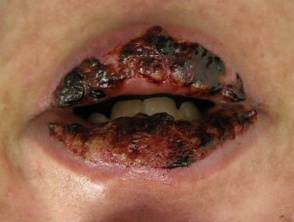SJS-TEN: (9, 3, 294, 205)
